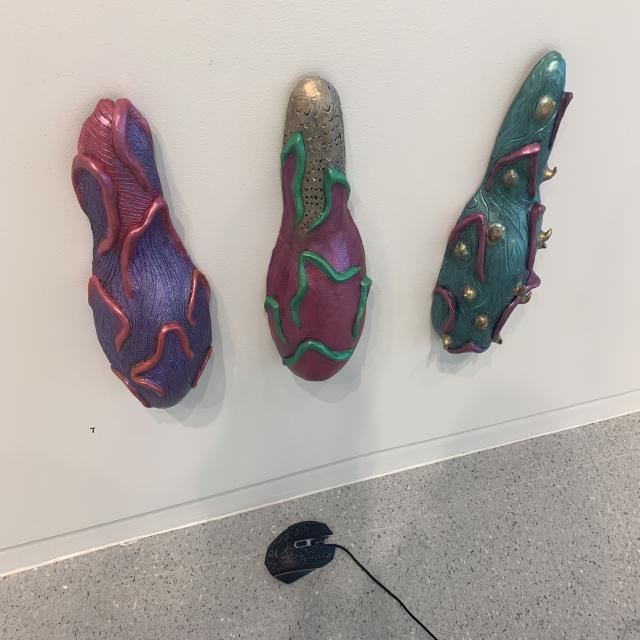Mouse: (256, 510, 350, 591)
